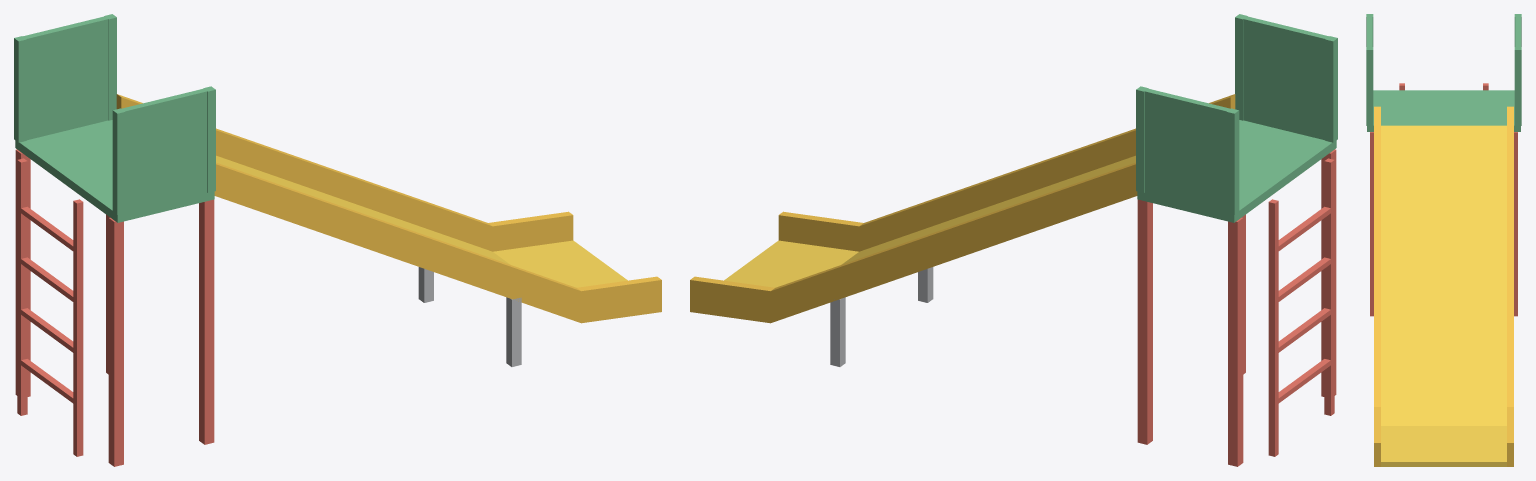
File: slide.glb
3 views of the same model, side by side, from view 1: azimuth 30°, elevation 25°; view 2: azimuth 150°, elevation 25°; view 3: azimuth 270°, elevation 25° (orthographic). The views are drawn at different scales.
Bounding box in the file's own units: 3.52 × 2.1 × 1.11.
